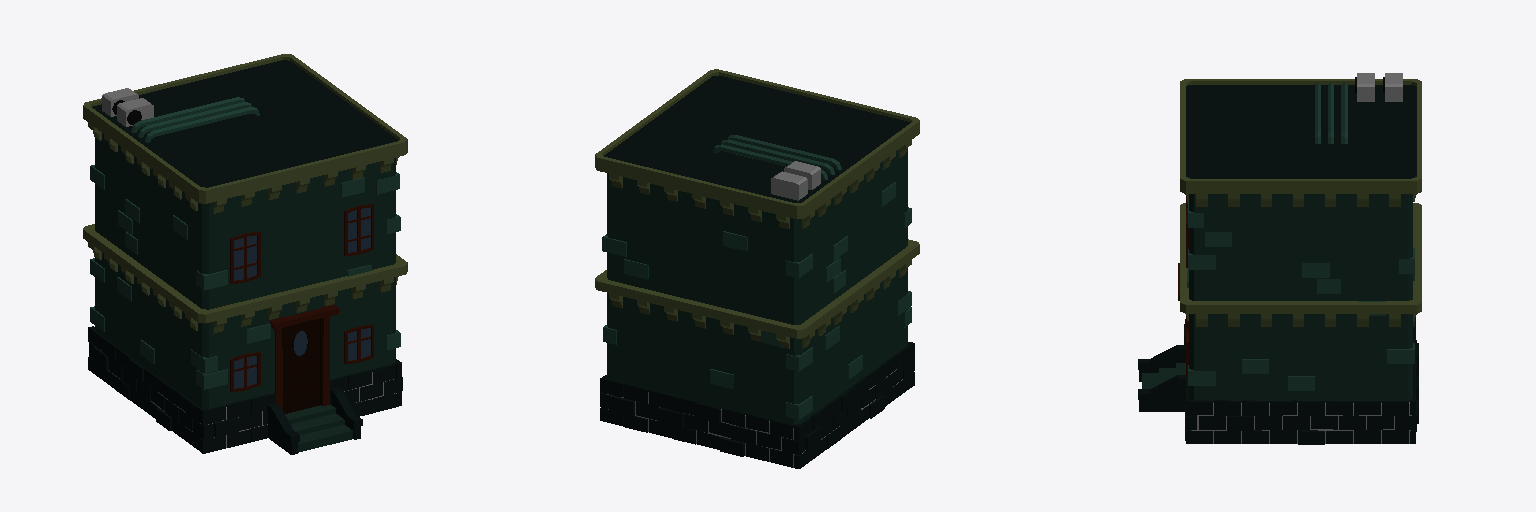
The model's file is 2Story_Stairs_Mat.obj.
The picture shows the model from 3 angles: view 1: azimuth 30°, elevation 25°; view 2: azimuth 150°, elevation 25°; view 3: azimuth 270°, elevation 25°; orthographic projection.
Visible parts, largest first — view 1: 2Story_Stairs_Mat_Cube.041; view 2: 2Story_Stairs_Mat_Cube.041; view 3: 2Story_Stairs_Mat_Cube.041.
Boxes of the visible parts, x1,y1,x2,y2 form: 2Story_Stairs_Mat_Cube.041: [83, 54, 407, 454]; 2Story_Stairs_Mat_Cube.041: [595, 69, 919, 468]; 2Story_Stairs_Mat_Cube.041: [1138, 73, 1421, 444].
Size of the model in its own units: 2.16 by 2.75 by 2.53.